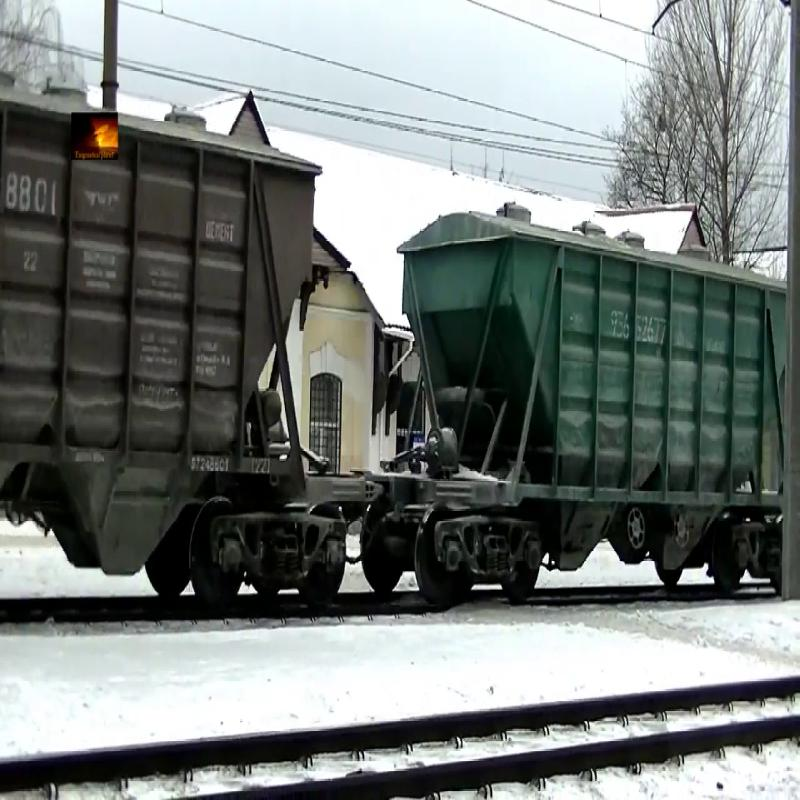train: (1, 124, 341, 594), (393, 235, 787, 609)
